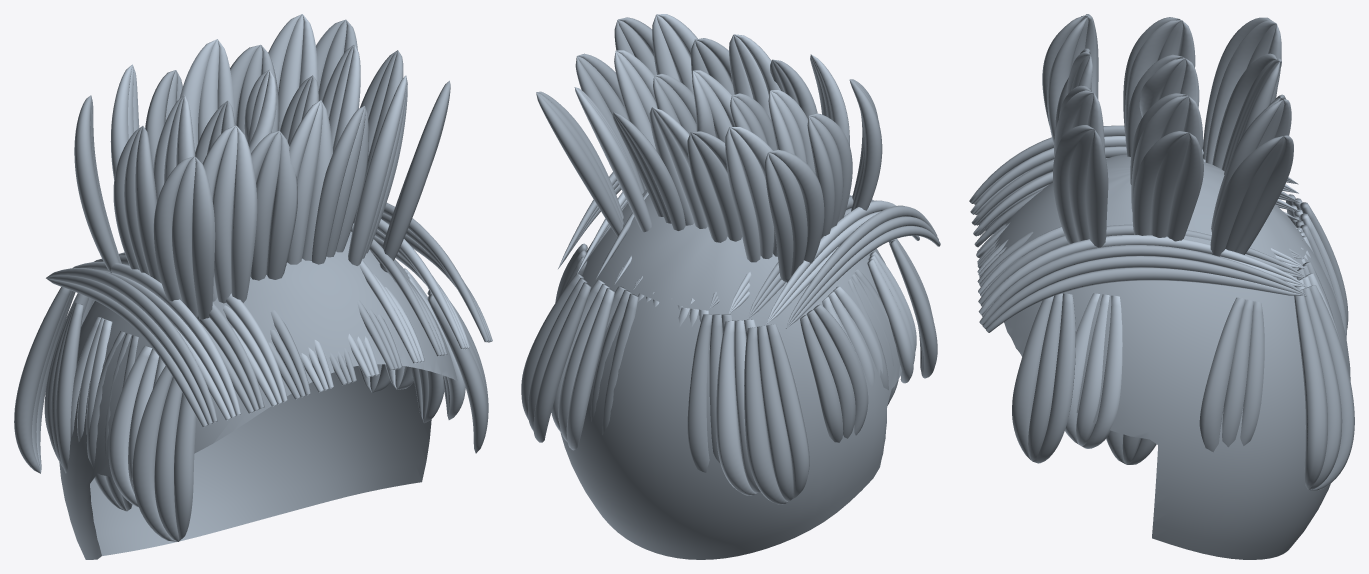
The picture shows the model from 3 angles, left to right: view 1: azimuth 30°, elevation 25°; view 2: azimuth 150°, elevation 25°; view 3: azimuth 270°, elevation 25°; orthographic projection. The views are drawn at different scales.
Parts seen in each view (by area): view 1: CrownHair_male_ref13, CrownHair_Spike_0_1_Strand2, CrownHair_Spike_0_5_Strand0, SideHair_-1_0_Strand2, BackHair_00_Strand0, CrownHair_Spike_0_6_Strand0, CrownHair_Spike_0_0_Strand2, CrownHair_Spike_2_0_Strand2, CrownHair_Spike_0_1_Strand1, SideHair_-1_0_Strand1, CrownHair_Spike_0_2_Strand2, CrownHair_Spike_0_4_Strand0 (+67 smaller); view 2: CrownHair_male_ref13, BackHair_00_Strand2, BackHair_01_Strand2, BackHair_00_Strand1, BackHair_00_Strand0, BackHair_07_Strand0, BackHair_02_Strand2, BackHair_08_Strand0, CrownHair_Spike_2_5_Strand2, CrownHair_Spike_2_6_Strand2, SideHair_-1_4_Strand2, CrownHair_Spike_2_1_Strand0 (+65 smaller); view 3: CrownHair_male_ref13, BackHair_08_Strand2, FrontHair_Slick_12_Strand2, FrontHair_Slick_12_Strand0, FrontHair_Slick_12_Strand1, SideHair_1_0_Strand0, FrontHair_Slick_11_Strand0, SideHair_1_4_Strand2, SideHair_1_0_Strand1, SideHair_1_0_Strand2, BackHair_08_Strand0, BackHair_08_Strand1 (+46 smaller).
Boxes of the visible parts, bbox=[...] form: CrownHair_male_ref13: bbox=[59, 231, 457, 559]; CrownHair_Spike_0_1_Strand2: bbox=[231, 125, 257, 302]; CrownHair_Spike_0_5_Strand0: bbox=[348, 75, 406, 265]; SideHair_-1_0_Strand2: bbox=[132, 366, 177, 541]; BackHair_00_Strand0: bbox=[14, 287, 71, 473]; CrownHair_Spike_0_6_Strand0: bbox=[379, 80, 450, 272]; CrownHair_Spike_0_0_Strand2: bbox=[192, 156, 215, 322]; CrownHair_Spike_2_0_Strand2: bbox=[74, 95, 119, 272]; CrownHair_Spike_0_1_Strand1: bbox=[212, 125, 237, 303]; SideHair_-1_0_Strand1: bbox=[154, 377, 182, 541]; CrownHair_Spike_0_2_Strand2: bbox=[266, 131, 297, 279]; CrownHair_Spike_0_4_Strand0: bbox=[311, 106, 364, 264]; CrownHair_male_ref13: bbox=[560, 189, 901, 559]; BackHair_00_Strand2: bbox=[744, 327, 788, 504]; BackHair_01_Strand2: bbox=[716, 320, 757, 495]; BackHair_00_Strand1: bbox=[757, 325, 793, 501]; BackHair_00_Strand0: bbox=[766, 324, 809, 498]; BackHair_07_Strand0: bbox=[566, 288, 614, 450]; BackHair_02_Strand2: bbox=[687, 314, 712, 472]; BackHair_08_Strand0: bbox=[533, 282, 590, 442]; CrownHair_Spike_2_5_Strand2: bbox=[575, 87, 651, 232]; CrownHair_Spike_2_6_Strand2: bbox=[536, 92, 623, 236]; SideHair_-1_4_Strand2: bbox=[800, 314, 843, 442]; CrownHair_Spike_2_1_Strand0: bbox=[725, 127, 760, 262]; CrownHair_male_ref13: bbox=[994, 154, 1350, 559]; BackHair_08_Strand2: bbox=[1294, 289, 1327, 489]; FrontHair_Slick_12_Strand2: bbox=[986, 267, 1307, 332]; FrontHair_Slick_12_Strand0: bbox=[979, 245, 1307, 325]; FrontHair_Slick_12_Strand1: bbox=[982, 256, 1307, 328]; SideHair_1_0_Strand0: bbox=[1033, 293, 1075, 463]; FrontHair_Slick_11_Strand0: bbox=[978, 235, 1306, 314]; SideHair_1_4_Strand2: bbox=[1199, 297, 1245, 452]; SideHair_1_0_Strand1: bbox=[1028, 293, 1062, 461]; SideHair_1_0_Strand2: bbox=[1012, 296, 1053, 460]; BackHair_08_Strand0: bbox=[1306, 285, 1354, 490]; BackHair_08_Strand1: bbox=[1300, 287, 1342, 489].
Bounding box in the file's own units: 0.7248 × 0.9946 × 0.7036.
